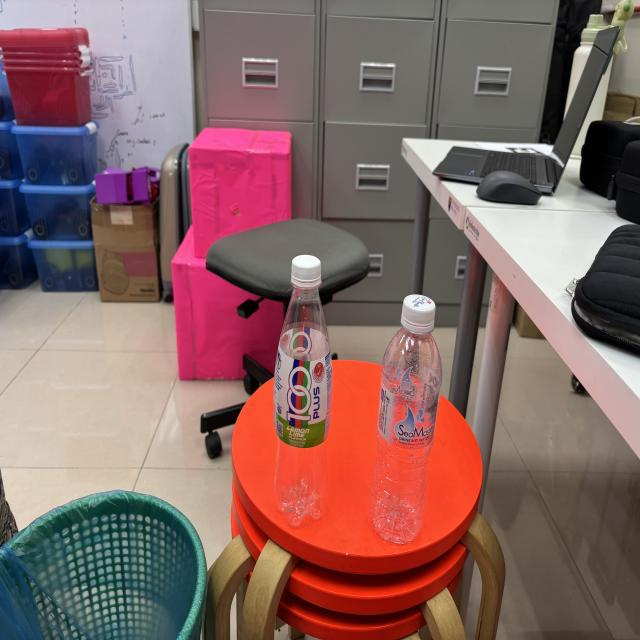dustbin: (0, 472, 217, 640)
plastic_bottle: (365, 281, 449, 550), (268, 245, 342, 530)
